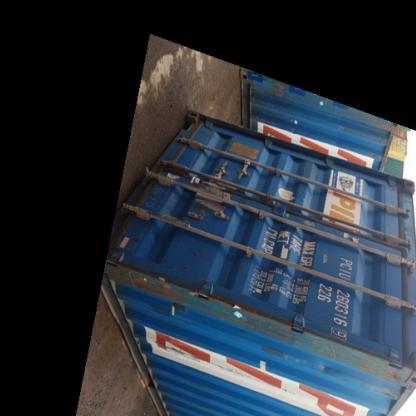Damage: (308, 328, 406, 390), (204, 297, 304, 353), (114, 262, 200, 310), (131, 180, 181, 218)
